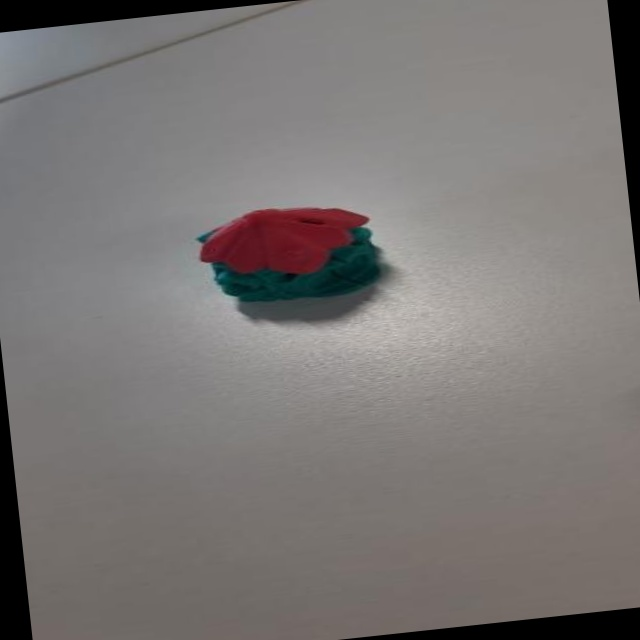House: (191, 189, 406, 317)
